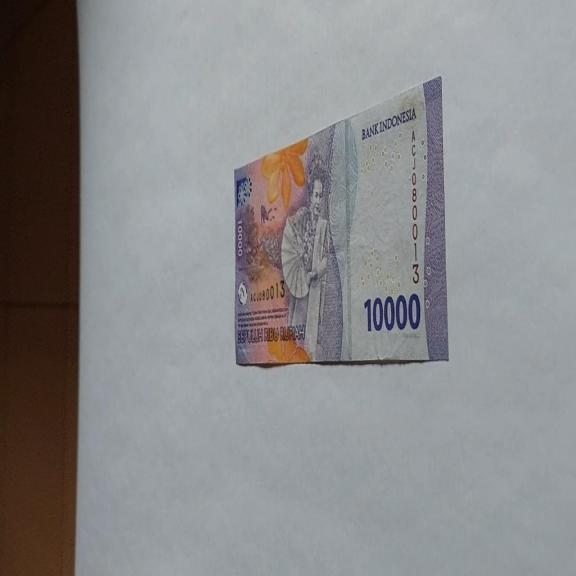Kertas: (233, 74, 449, 368), (363, 291, 421, 333)
